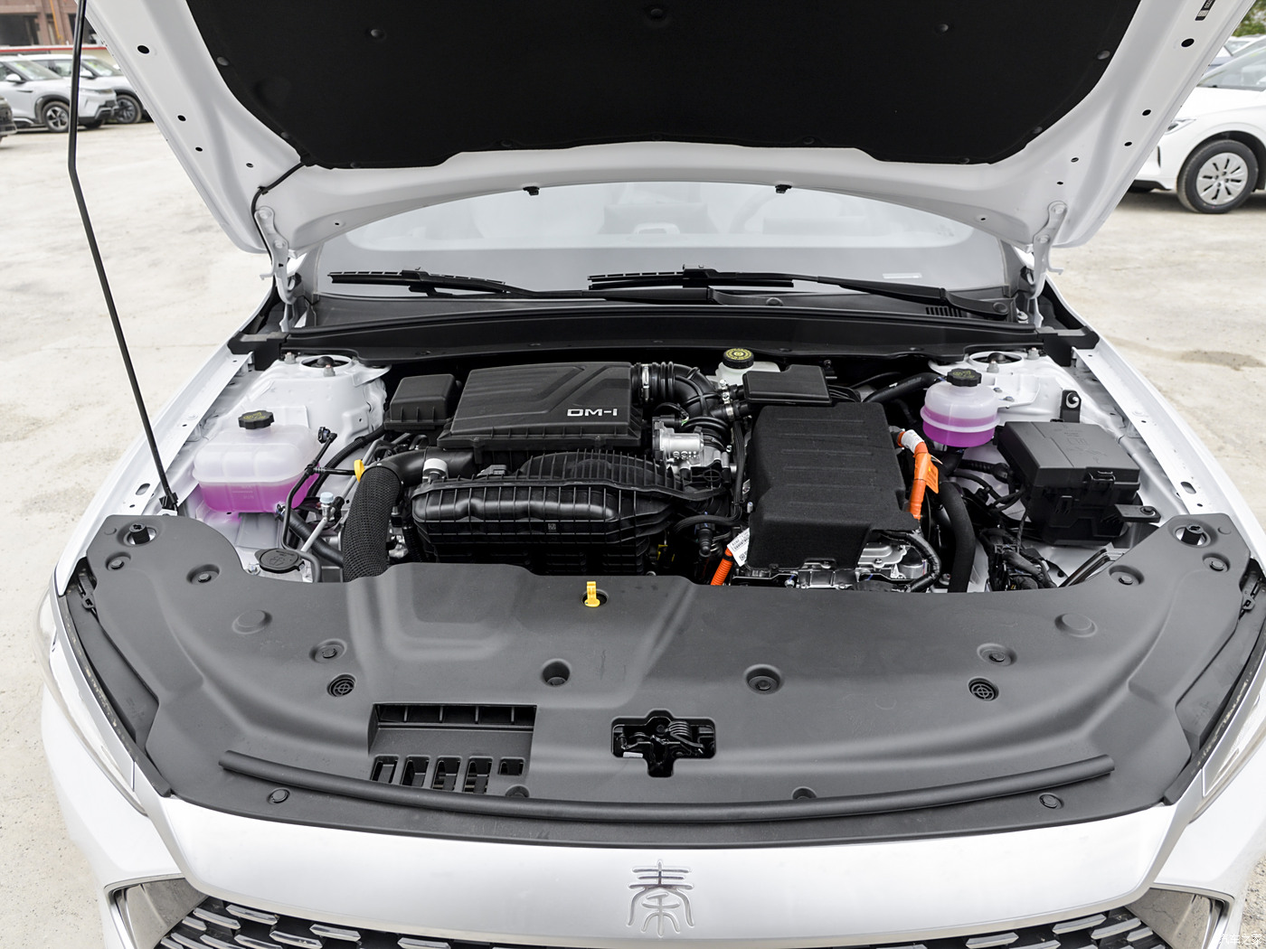BYD Qin: (628, 861, 694, 935)
